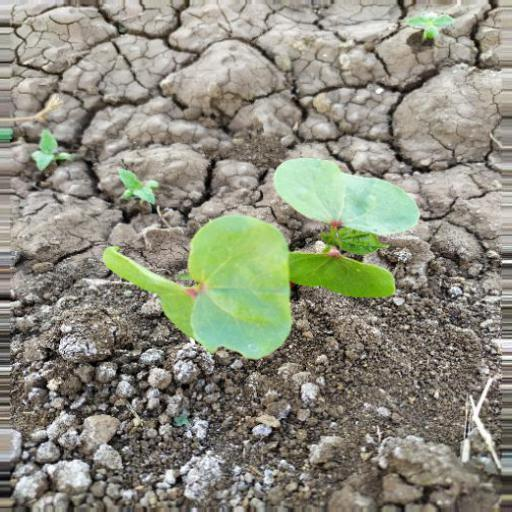weed: (79, 155, 418, 351)
